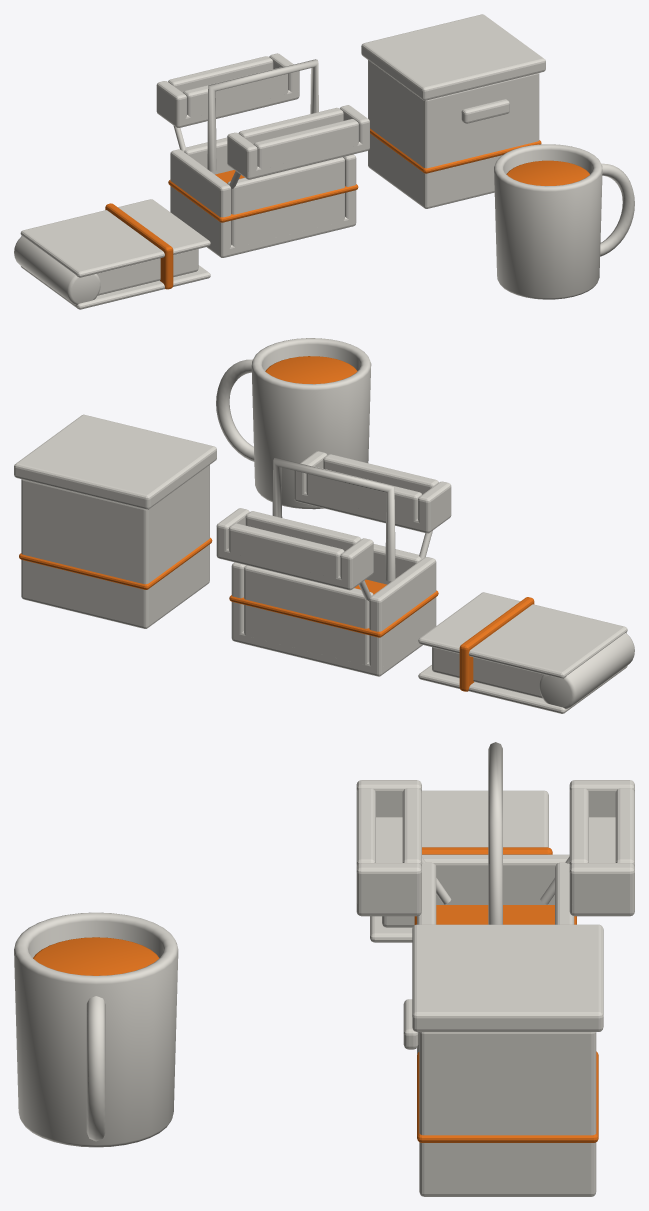
Rendered from gift-shop.glb.
The picture shows the model from 3 angles, top to bottom: view 1: azimuth 30°, elevation 25°; view 2: azimuth 150°, elevation 25°; view 3: azimuth 270°, elevation 25°; orthographic projection. The views are drawn at different scales.
Visible parts, largest first — view 1: filing_box, plain_mug, filing_box_lid, notebook_cover_top, tiny_toolbox_side_-1, tiny_toolbox_end_-1, tiny_tray_-1_side_-1, rounded_notebook_spine, tiny_tray_1_side_-1, tiny_carrying_handle, notebook_pages, glazed_tea_surface (+17 smaller); view 2: filing_box, plain_mug, filing_box_lid, notebook_cover_top, tiny_toolbox_side_1, tiny_toolbox_end_-1, tiny_tray_1_side_1, rounded_notebook_spine, tiny_tray_-1_side_1, tiny_carrying_handle, notebook_pages, glazed_tea_surface (+16 smaller); view 3: plain_mug, filing_box, filing_box_lid, notebook_cover_top, tiny_toolbox_end_-1, glazed_tea_surface, mug_handle, tiny_tray_1_end_1, tiny_tray_-1_end_1, tiny_carrying_handle, toolbox_glazed_band, tiny_tray_-1_floor (+12 smaller).
Boxes of the visible parts, bbox=[...] form: filing_box: bbox=[368, 60, 539, 208]; plain_mug: bbox=[494, 144, 602, 299]; filing_box_lid: bbox=[361, 14, 545, 100]; notebook_cover_top: bbox=[20, 199, 210, 277]; tiny_toolbox_side_-1: bbox=[227, 157, 344, 247]; tiny_toolbox_end_-1: bbox=[170, 149, 231, 250]; tiny_tray_-1_side_-1: bbox=[253, 119, 358, 169]; rounded_notebook_spine: bbox=[14, 236, 100, 304]; tiny_tray_1_side_-1: bbox=[183, 67, 288, 117]; tiny_carrying_handle: bbox=[207, 59, 318, 171]; notebook_pages: bbox=[97, 249, 198, 295]; glazed_tea_surface: bbox=[506, 160, 589, 185]; filing_box: bbox=[21, 465, 209, 628]; plain_mug: bbox=[251, 338, 371, 509]; filing_box_lid: bbox=[14, 414, 216, 509]; notebook_cover_top: bbox=[418, 592, 627, 678]; tiny_toolbox_side_1: bbox=[244, 565, 373, 664]; tiny_toolbox_end_-1: bbox=[369, 557, 436, 668]; tiny_tray_1_side_1: bbox=[228, 523, 344, 578]; rounded_notebook_spine: bbox=[539, 633, 634, 708]; tiny_tray_-1_side_1: bbox=[306, 466, 421, 521]; tiny_carrying_handle: bbox=[272, 458, 395, 581]; notebook_pages: bbox=[432, 647, 543, 698]; glazed_tea_surface: bbox=[265, 356, 357, 384]; plain_mug: bbox=[14, 912, 178, 1147]; filing_box: bbox=[419, 1032, 596, 1196]; filing_box_lid: bbox=[412, 924, 603, 1031]; notebook_cover_top: bbox=[422, 790, 548, 847]; tiny_toolbox_end_-1: bbox=[422, 854, 569, 904]; glazed_tea_surface: bbox=[33, 937, 159, 975]; mug_handle: bbox=[86, 996, 105, 1141]; tiny_tray_1_end_1: bbox=[569, 863, 634, 904]; tiny_tray_-1_end_1: bbox=[356, 863, 421, 904]; tiny_carrying_handle: bbox=[488, 742, 502, 924]; toolbox_glazed_band: bbox=[414, 905, 576, 924]; tiny_tray_-1_floor: bbox=[356, 817, 421, 916].
Bounding box in the file's own units: 0.3535 × 0.1051 × 0.2564.
